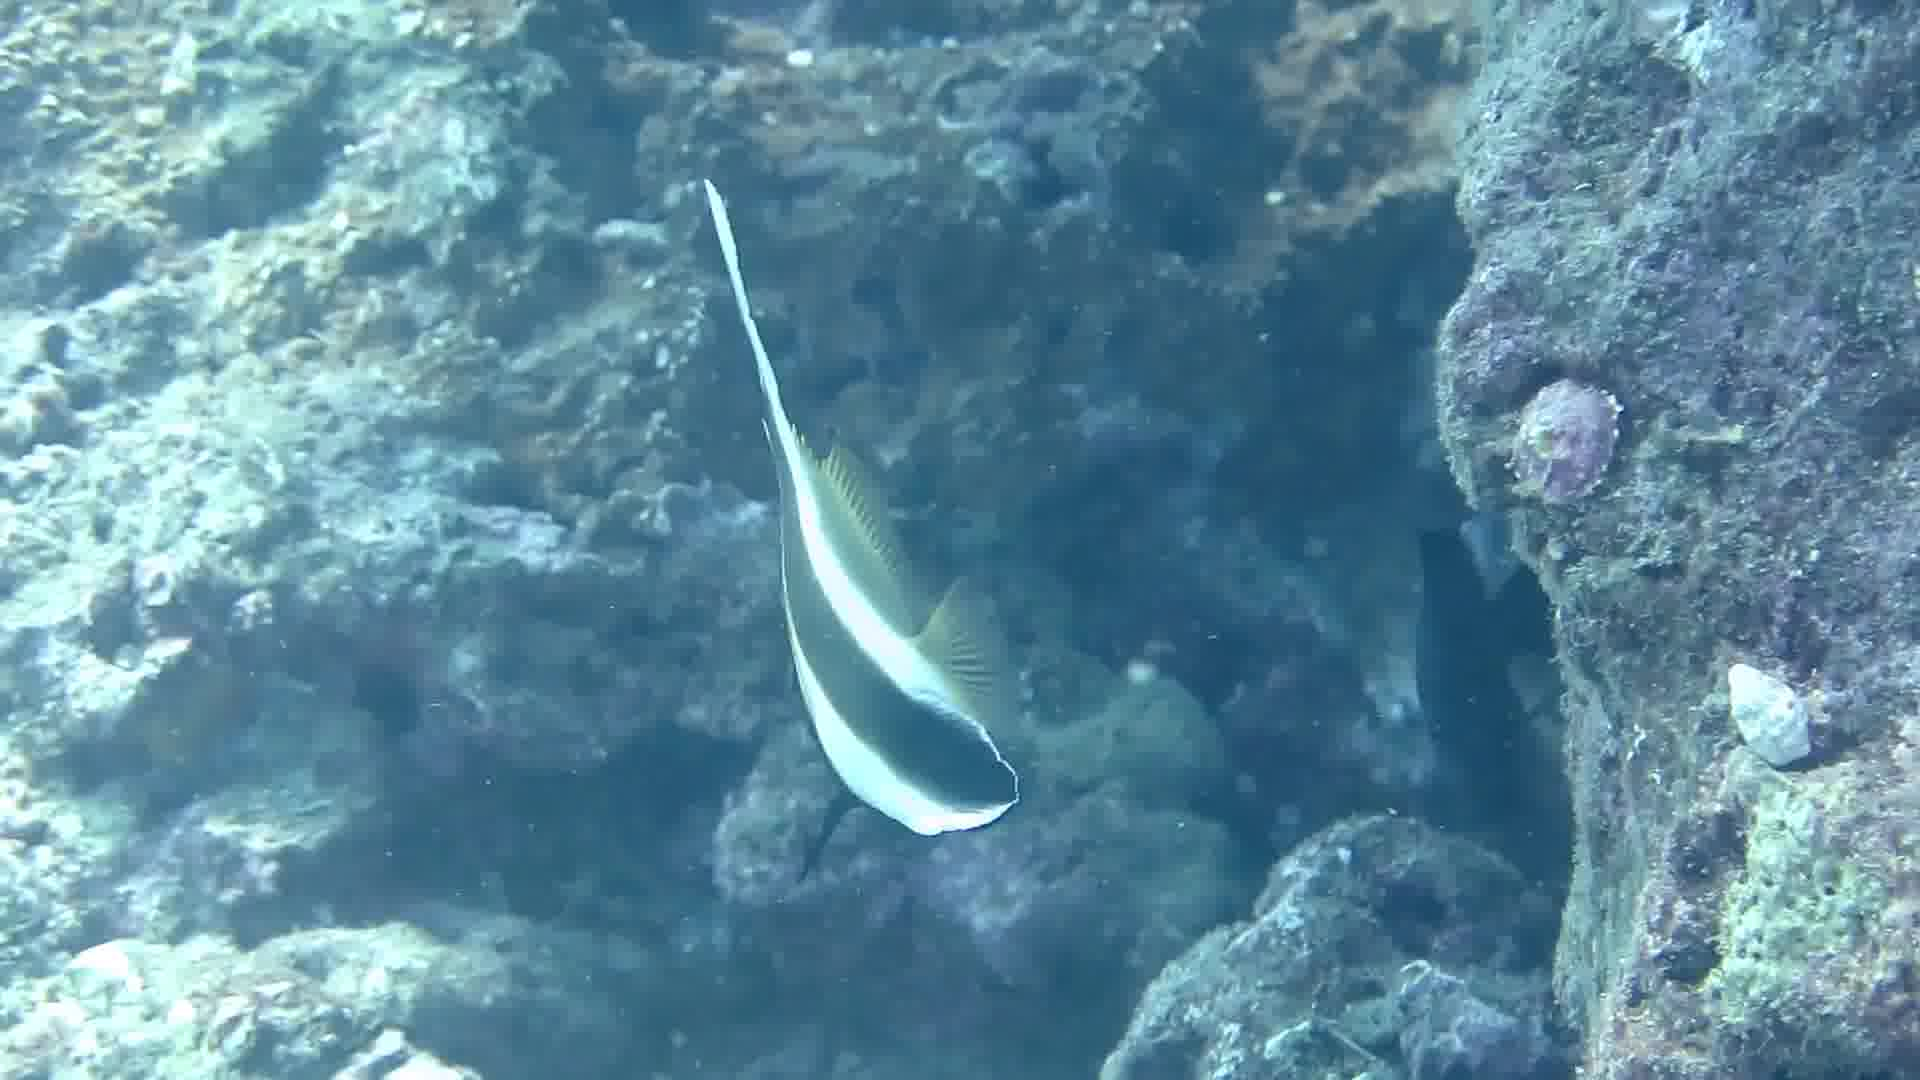Heniochus chrysostomus: (563, 157, 1105, 924)
